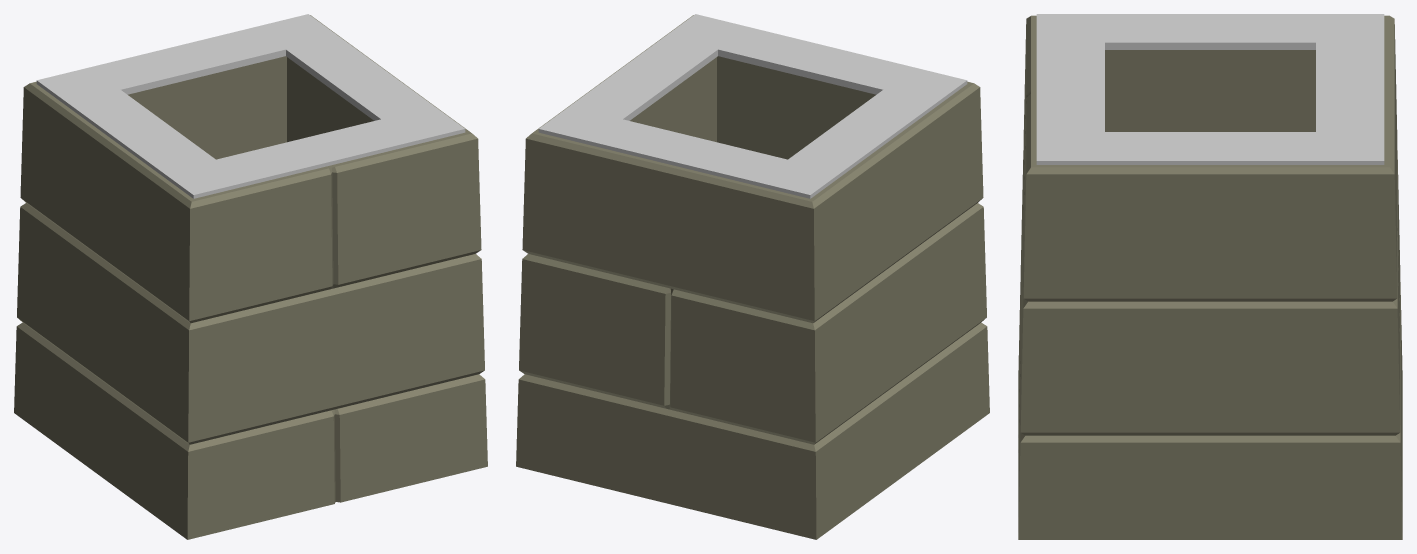
File: Wall_Tower_build_snow_mat.fbx
The picture shows the model from 3 angles, left to right: view 1: azimuth 30°, elevation 25°; view 2: azimuth 150°, elevation 25°; view 3: azimuth 270°, elevation 25°; orthographic projection. The views are drawn at different scales.
Parts seen in each view (by area): view 1: Wall_Tower_build_snow_mat; view 2: Wall_Tower_build_snow_mat; view 3: Wall_Tower_build_snow_mat.
Boxes of the visible parts, x1=… form: Wall_Tower_build_snow_mat: x1=14, y1=14, x2=487, y2=539; Wall_Tower_build_snow_mat: x1=516, y1=14, x2=989, y2=539; Wall_Tower_build_snow_mat: x1=1018, y1=14, x2=1402, y2=539.
Size of the model in its own units: 122 by 130 by 122.
